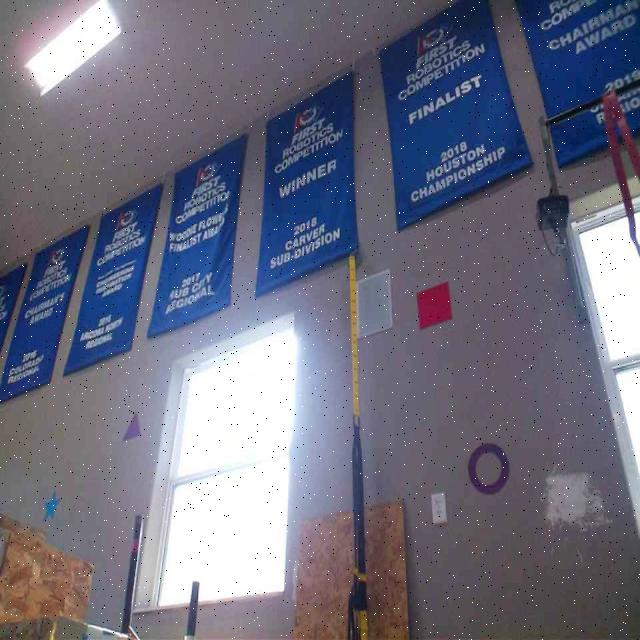ring_purple: (468, 439, 509, 493)
square_red: (415, 279, 453, 328)
star_blue: (42, 491, 59, 519)
triangle_purple: (121, 411, 141, 441)
